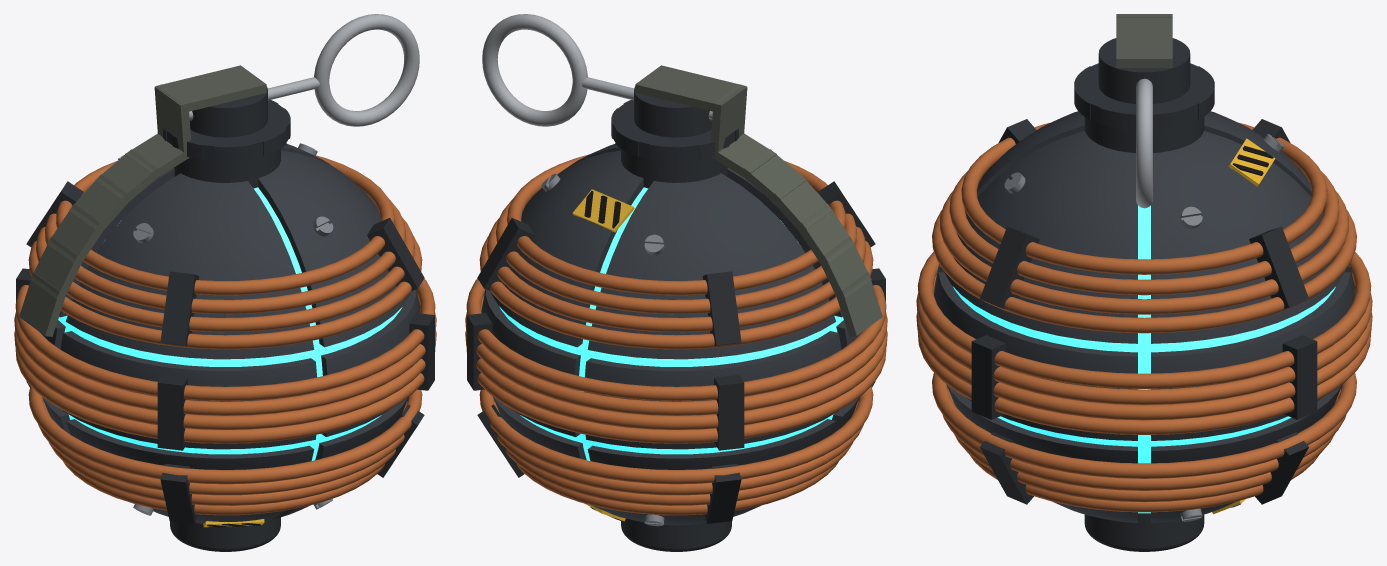
The model's file is gad_emp.glb.
The picture shows the model from 3 angles, left to right: view 1: azimuth 30°, elevation 25°; view 2: azimuth 150°, elevation 25°; view 3: azimuth 270°, elevation 25°; orthographic projection. The views are drawn at different scales.
Visible parts, largest first — view 1: armour_plates, copper_coil_2, copper_coil_3, copper_coil_1, safety_lever, coil_retainers, fuse_housing, pull_ring, energy_core, emitter_cap, screws; view 2: armour_plates, copper_coil_2, copper_coil_3, copper_coil_1, safety_lever, coil_retainers, fuse_housing, pull_ring, energy_core, emitter_cap, warning_decals, screws (+1 smaller); view 3: armour_plates, copper_coil_3, copper_coil_2, copper_coil_1, coil_retainers, fuse_housing, energy_core, emitter_cap, safety_lever, pull_ring, screws, warning_decals.
Part boxes in pixels (x1,y1,x2,y2): armour_plates: [40, 144, 420, 523]; copper_coil_2: [14, 278, 436, 443]; copper_coil_3: [28, 155, 422, 349]; copper_coil_1: [28, 386, 422, 515]; safety_lever: [19, 65, 266, 336]; coil_retainers: [16, 181, 434, 523]; fuse_housing: [162, 86, 290, 188]; pull_ring: [189, 14, 419, 126]; energy_core: [58, 187, 402, 460]; emitter_cap: [170, 517, 280, 551]; screws: [118, 143, 333, 515]; armour_plates: [481, 144, 861, 525]; copper_coil_2: [465, 278, 887, 443]; copper_coil_3: [479, 154, 873, 349]; copper_coil_1: [479, 386, 873, 515]; safety_lever: [635, 65, 882, 336]; coil_retainers: [467, 181, 885, 523]; fuse_housing: [611, 86, 739, 188]; pull_ring: [482, 14, 712, 126]; energy_core: [499, 187, 843, 460]; emitter_cap: [621, 518, 731, 551]; warning_decals: [572, 189, 634, 521]; screws: [541, 173, 664, 526]; armour_plates: [934, 111, 1354, 522]; copper_coil_3: [932, 122, 1356, 333]; copper_coil_2: [916, 251, 1372, 434]; copper_coil_1: [932, 373, 1356, 512]; coil_retainers: [971, 119, 1317, 504]; fuse_housing: [1074, 38, 1214, 152]; energy_core: [953, 205, 1335, 513]; emitter_cap: [1084, 513, 1204, 551]; safety_lever: [1116, 14, 1172, 67]; pull_ring: [1136, 78, 1152, 208]; screws: [1004, 134, 1284, 521]; warning_decals: [1212, 138, 1275, 514].
Bounding box in the file's own units: 0.0684 × 0.0812 × 0.0647.
